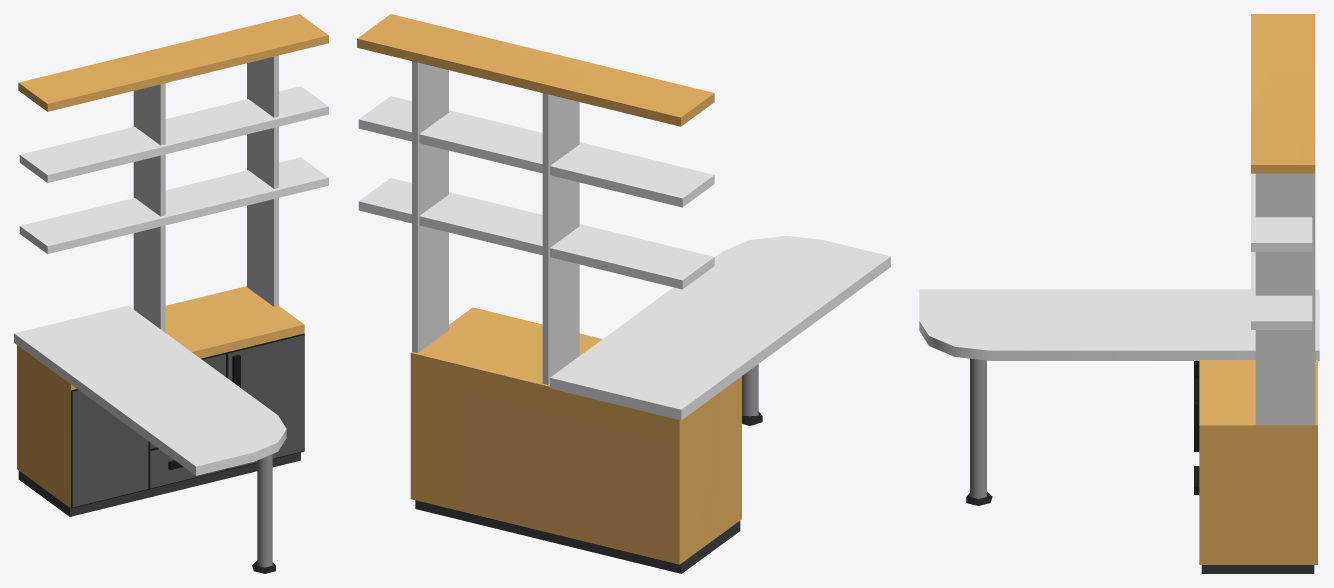
Rendered from office_table_018.glb.
3 views of the same model, side by side, from view 1: azimuth 30°, elevation 25°; view 2: azimuth 150°, elevation 25°; view 3: azimuth 270°, elevation 25° (orthographic). The views are drawn at different scales.
Visible parts, largest first — view 1: office_table_018; view 2: office_table_018; view 3: office_table_018.
Boxes of the visible parts, <box> form: office_table_018: <box>14,14,328,573</box>; office_table_018: <box>357,14,890,573</box>; office_table_018: <box>919,14,1319,573</box>.
Bounding box in the file's own units: 1.67 × 2.24 × 1.86.
1 material, 1 textured.
